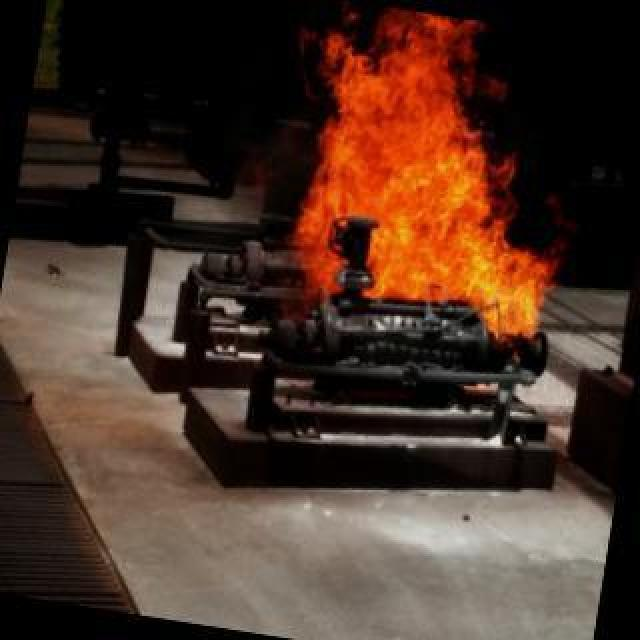Fire: (298, 9, 556, 338)
